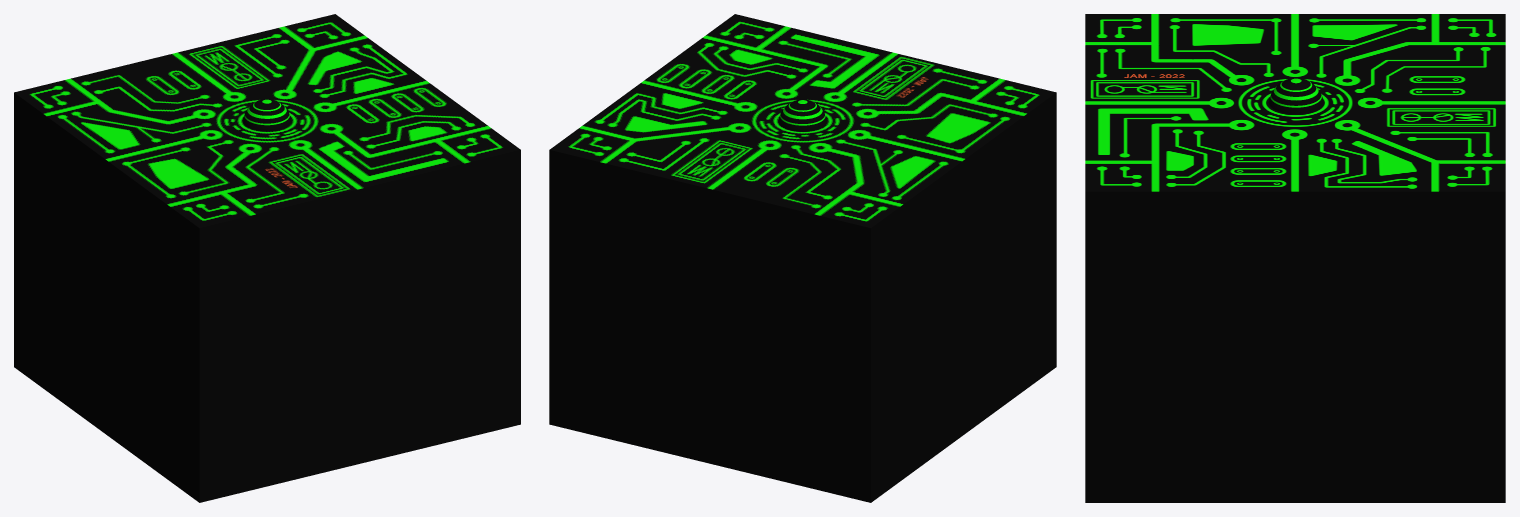
The model's file is SueloCentral.fbx.
The picture shows the model from 3 angles, left to right: view 1: azimuth 30°, elevation 25°; view 2: azimuth 150°, elevation 25°; view 3: azimuth 270°, elevation 25°; orthographic projection. The views are drawn at different scales.
Visible parts, largest first — view 1: Central; view 2: Central; view 3: Central.
Part boxes in pixels (<box>): Central: <box>14,14,520,502</box>; Central: <box>549,14,1056,502</box>; Central: <box>1085,14,1505,502</box>.
Size of the model in its own units: 3000 by 2623 by 3000.
